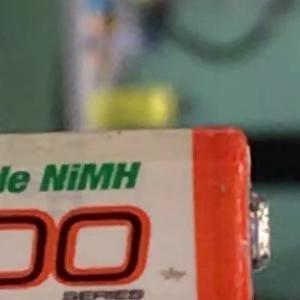keyword: (30, 152, 151, 201)
